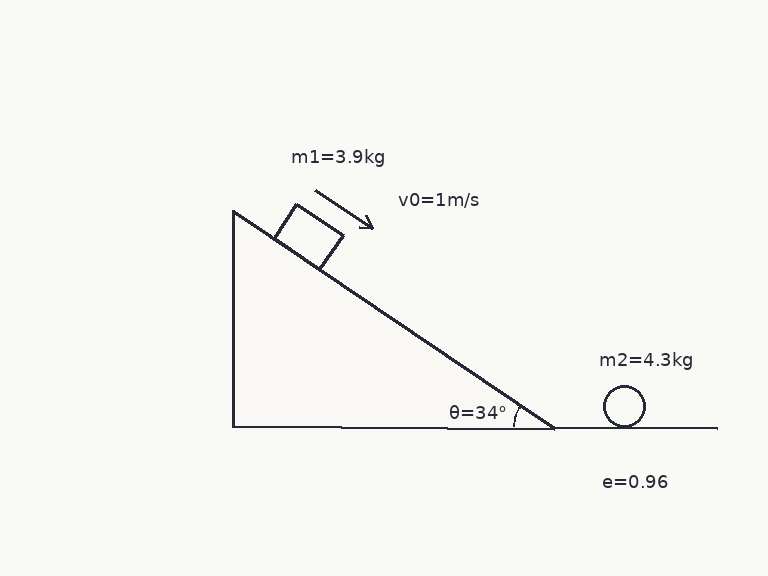ball: (601, 383, 647, 429)
block: (272, 202, 345, 271)
ramp: (231, 209, 556, 429)
